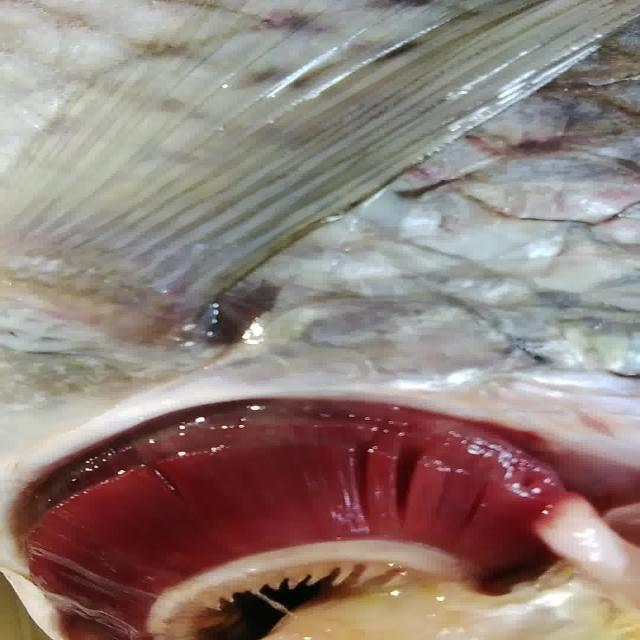Fresh: (22, 399, 597, 635)
